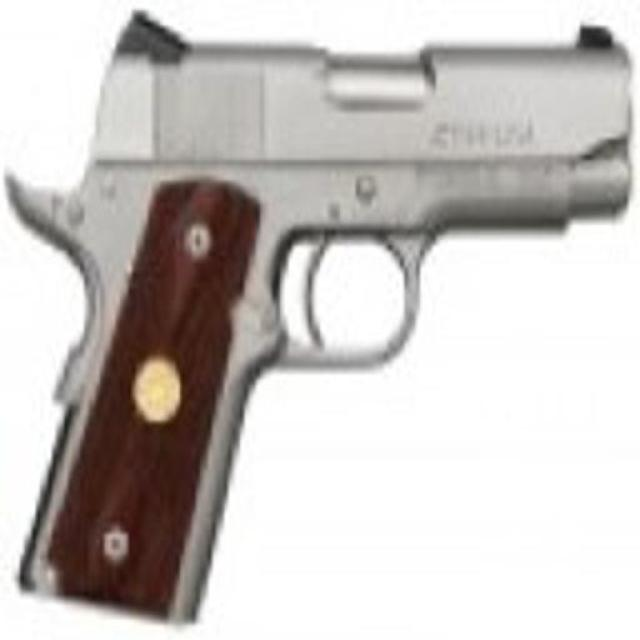pistol: (11, 10, 627, 624)
